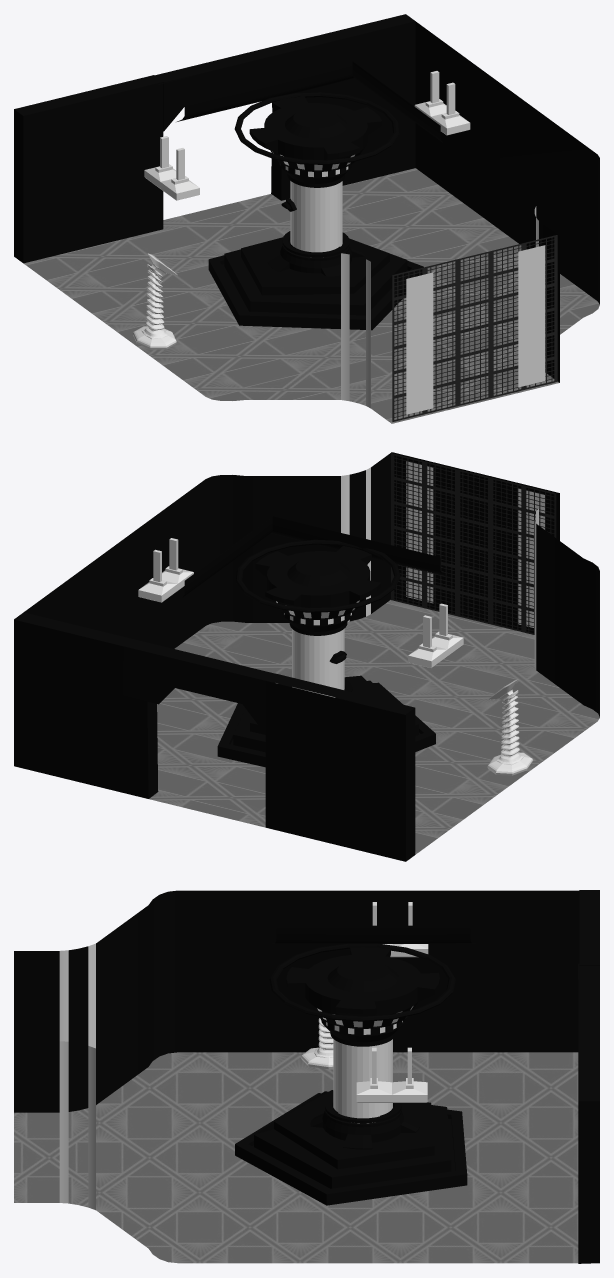
File: Castus V2.fbx
3 renders of one model, top to bottom at view 1: azimuth 30°, elevation 25°; view 2: azimuth 150°, elevation 25°; view 3: azimuth 270°, elevation 25°, orthographic. The views are drawn at different scales.
Parts seen in each view (by area): view 1: Cube.003, Circle, Cube.007, Cylinder, Cylinder.001, Cube.009, Cube.005, Cube.004; view 2: Cube.003, Cube.007, Cylinder, Circle, Cylinder.001, Cube.009, Cube.005, Cube.004; view 3: Cube.003, Circle, Cylinder, Cylinder.001, Cube.004, Cube.009, Cube.005.
Part boxes in pixels (box(x1,y1,x2,y2)): Cube.003: box(14, 14, 599, 423); Circle: box(208, 237, 423, 330); Cube.007: box(392, 235, 557, 421); Cylinder: box(234, 92, 399, 276); Cylinder.001: box(290, 181, 342, 252); Cube.009: box(133, 264, 176, 349); Cube.005: box(144, 136, 199, 200); Cube.004: box(414, 71, 470, 135); Cube.003: box(14, 452, 599, 861); Cube.007: box(391, 453, 556, 634); Cylinder: box(236, 539, 400, 702); Circle: box(217, 675, 435, 767); Cylinder.001: box(292, 628, 344, 697); Cube.009: box(487, 690, 532, 775); Cube.005: box(408, 603, 463, 668); Cube.004: box(138, 538, 193, 602); Cube.003: box(14, 890, 599, 1263); Circle: box(235, 1090, 467, 1205); Cylinder: box(269, 943, 455, 1149); Cylinder.001: box(333, 1039, 392, 1118); Cube.004: box(356, 1047, 427, 1102); Cube.009: box(301, 1018, 333, 1069); Cube.005: box(372, 902, 428, 957).
Size of the model in its own units: 670 by 279 by 787.
Materials: 9 (1 with a texture image).
